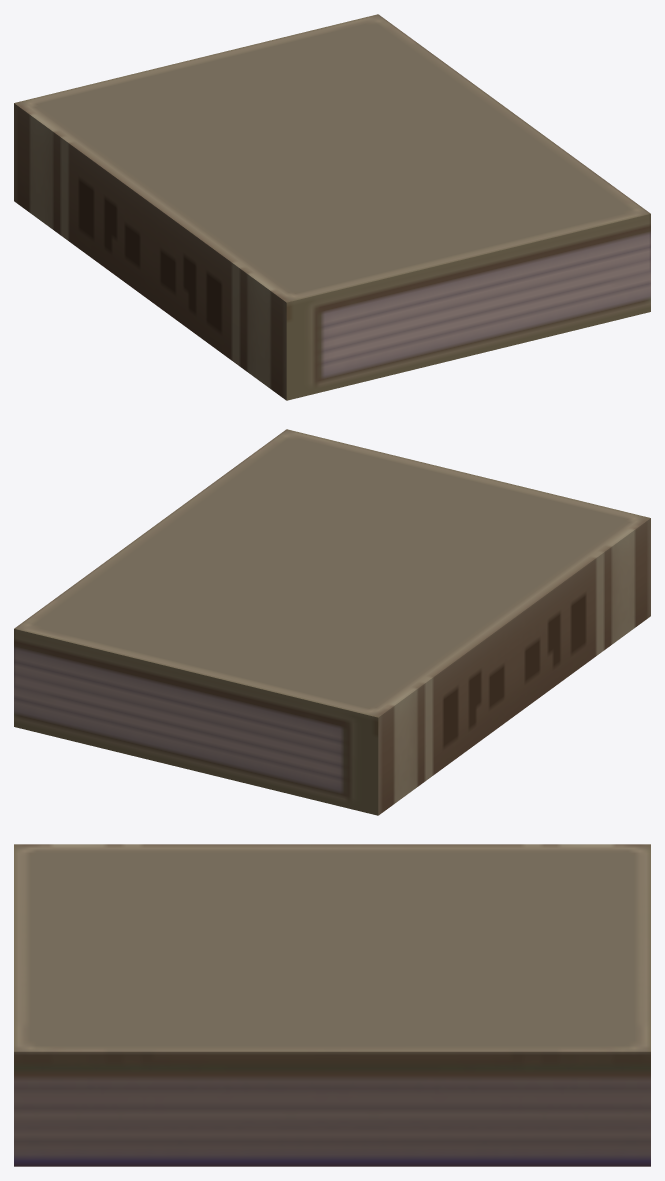
Rendered from scenes_around_book01e.FBX.
The picture shows the model from 3 angles, top to bottom: view 1: azimuth 30°, elevation 25°; view 2: azimuth 150°, elevation 25°; view 3: azimuth 270°, elevation 25°; orthographic projection. The views are drawn at different scales.
Parts seen in each view (by area): view 1: scenes_around_book01e; view 2: scenes_around_book01e; view 3: scenes_around_book01e.
Part boxes in pixels (x1,y1,x2,y2): scenes_around_book01e: (14, 14, 650, 400); scenes_around_book01e: (14, 429, 650, 815); scenes_around_book01e: (14, 844, 650, 1166).
Size of the model in its own units: 4156 by 1070 by 5387.
